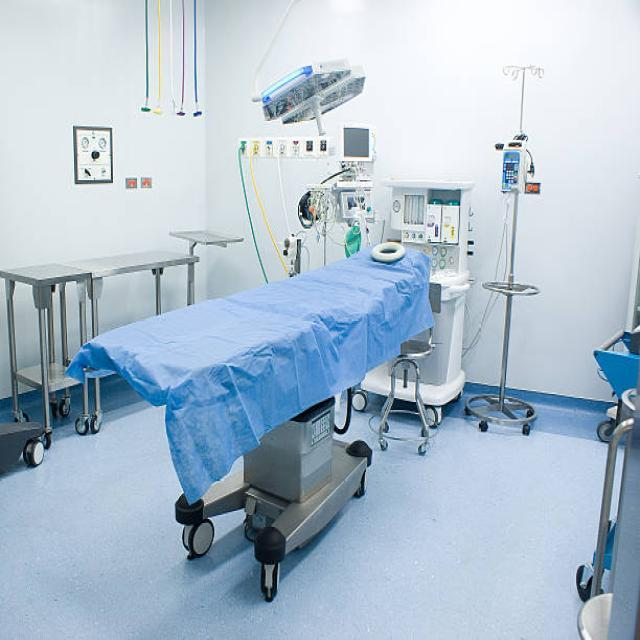Monitor: (325, 113, 388, 176)
Saline Stand: (467, 45, 550, 436)
bed: (81, 242, 447, 604)
tools_table: (0, 238, 99, 477), (80, 228, 212, 350)
